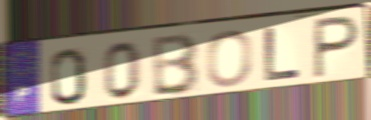0: (101, 39, 143, 102), (48, 45, 90, 107)
B: (150, 31, 202, 98)
L: (262, 25, 304, 83)
O: (205, 28, 254, 89)
P: (311, 13, 362, 81)
